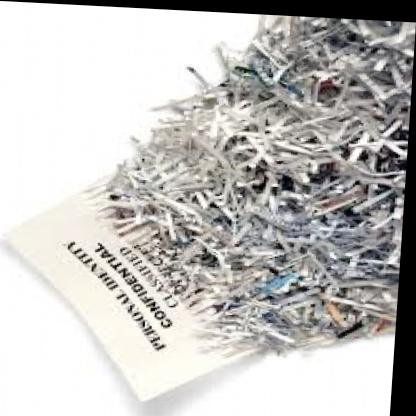Paper: (83, 4, 415, 373)
